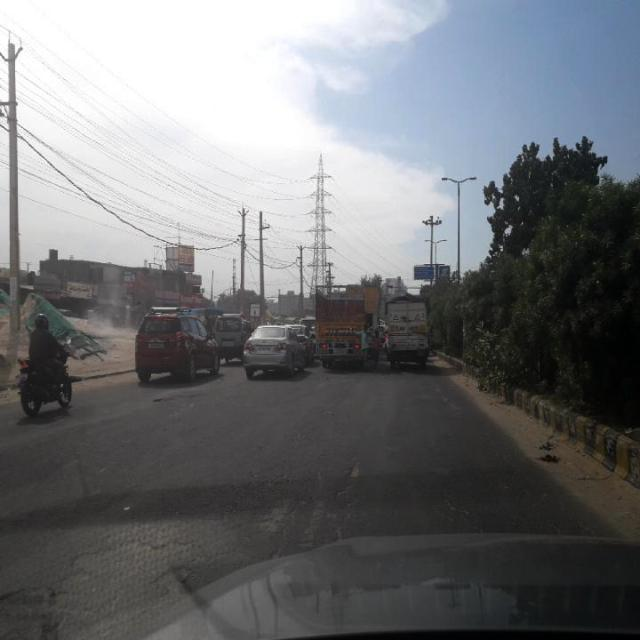crack: (210, 434, 369, 552), (458, 418, 594, 530)
pothole: (426, 472, 486, 534), (326, 448, 366, 538), (271, 470, 307, 552)
